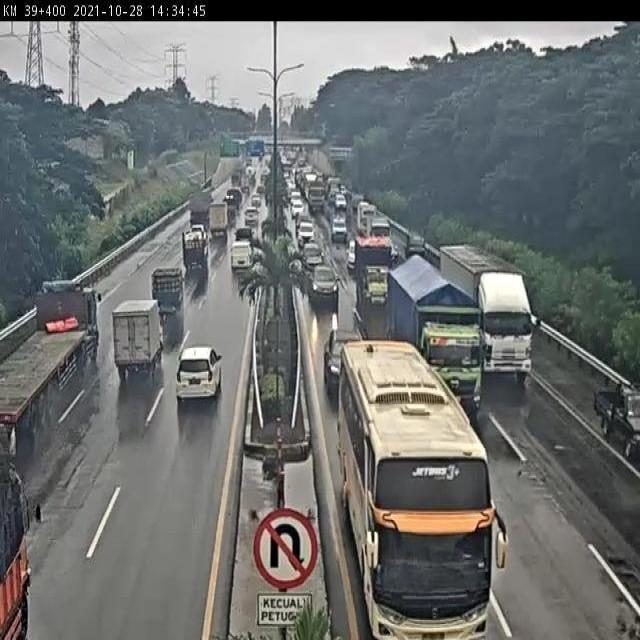big bus: (331, 337, 508, 639)
big truck: (0, 267, 107, 453), (392, 256, 484, 415), (471, 253, 548, 388)
car: (596, 366, 640, 466), (174, 339, 226, 408), (323, 327, 368, 389), (151, 259, 188, 320), (308, 264, 345, 317), (225, 235, 253, 282)
small truck: (108, 296, 165, 381), (356, 230, 395, 310), (176, 227, 216, 280)
